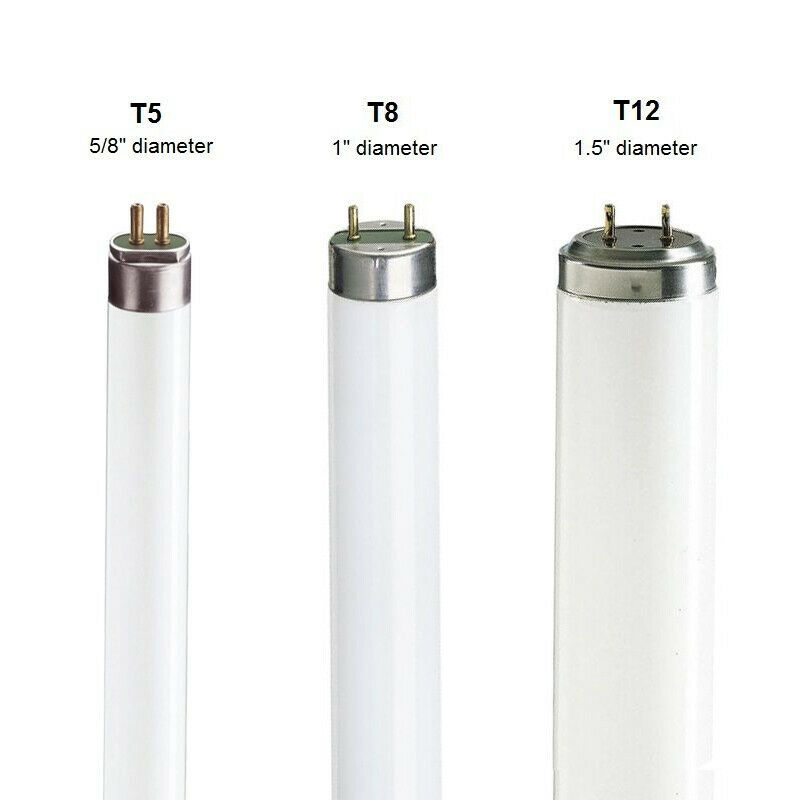Light_bulb: (541, 196, 724, 800), (316, 199, 453, 800), (96, 194, 200, 800)
